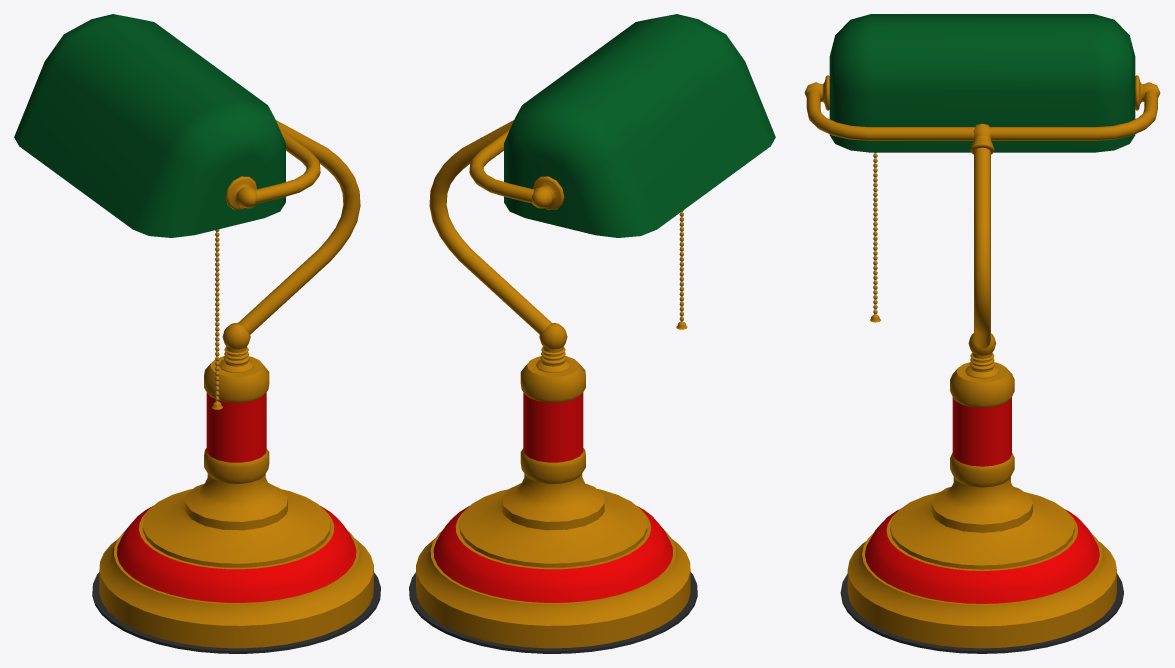
The model's file is Banker Lamp.fbx.
3 views of the same model, side by side, from view 1: azimuth 30°, elevation 25°; view 2: azimuth 150°, elevation 25°; view 3: azimuth 270°, elevation 25° (orthographic). The views are drawn at different scales.
Parts seen in each view (by area): view 1: pSphere47; view 2: pSphere47; view 3: pSphere47.
Part boxes in pixels (x1,y1,x2,y2): pSphere47: (14, 14, 380, 653); pSphere47: (409, 14, 775, 653); pSphere47: (804, 14, 1160, 653).
Size of the model in its own units: 21 by 38.53 by 23.14.
